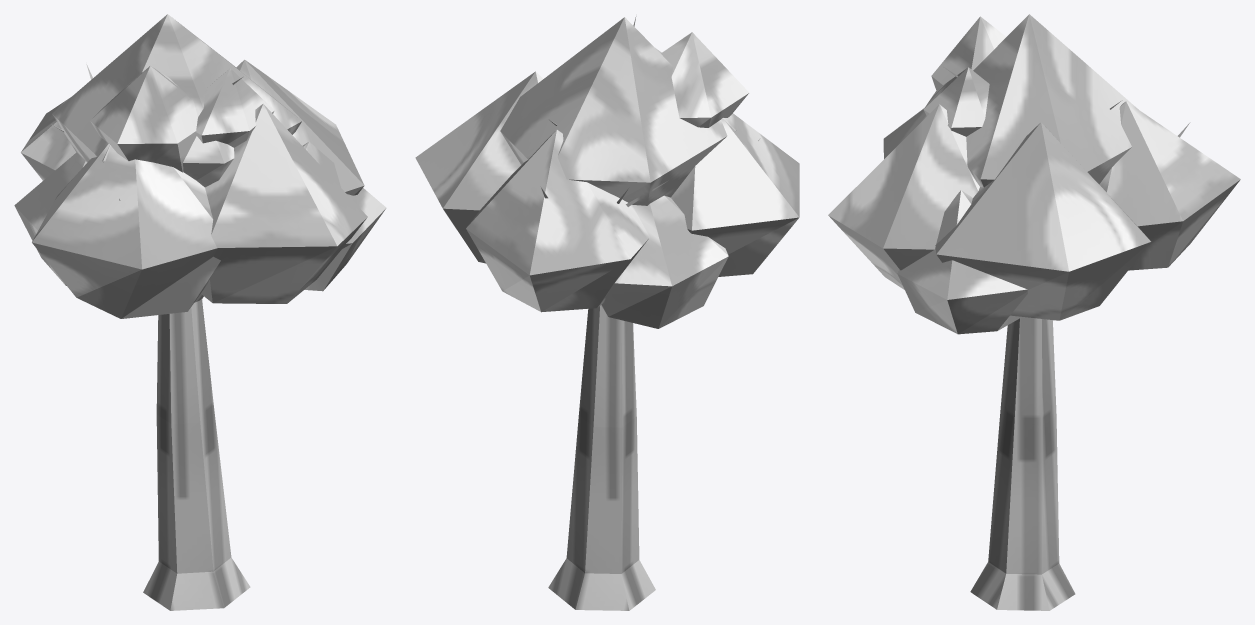
The model's file is tree_teak_1.obj.
3 renders of one model, left to right at view 1: azimuth 30°, elevation 25°; view 2: azimuth 150°, elevation 25°; view 3: azimuth 270°, elevation 25°, orthographic. The views are drawn at different scales.
Parts seen in each view (by area): view 1: tree_teak_1; view 2: tree_teak_1; view 3: tree_teak_1.
Part boxes in pixels (bbox=[...]): tree_teak_1: bbox=[14, 14, 386, 610]; tree_teak_1: bbox=[415, 16, 799, 610]; tree_teak_1: bbox=[828, 14, 1240, 610].
Size of the model in its own units: 0.7078 by 1.14 by 0.7526.
